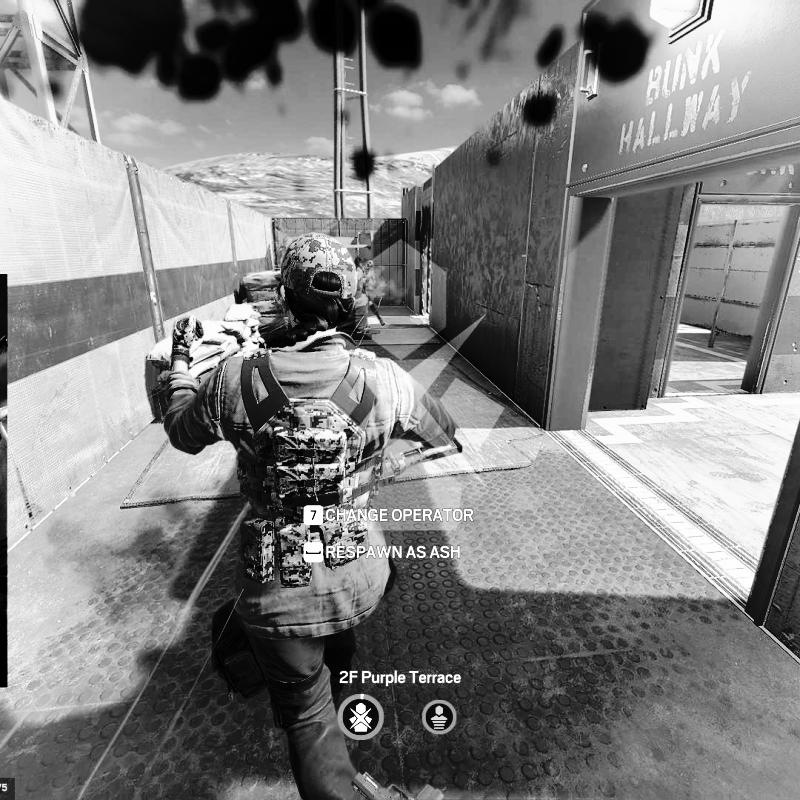Character: (160, 231, 462, 800), (357, 260, 386, 326)
Head: (280, 229, 358, 340), (367, 260, 374, 268)
